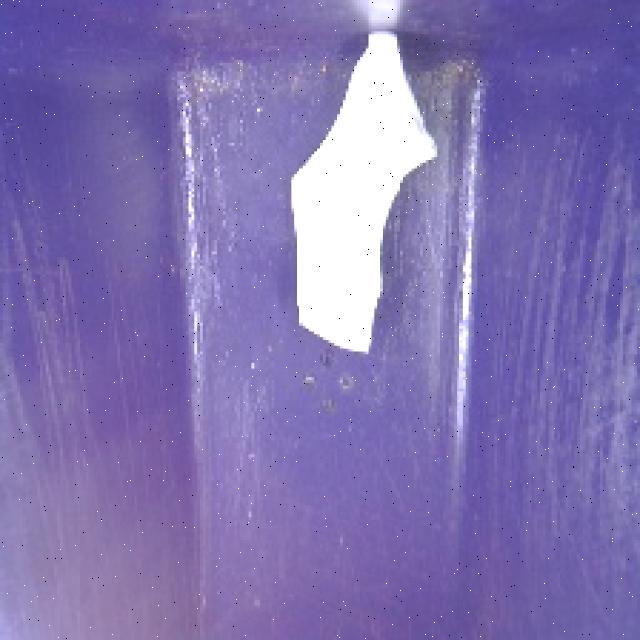china: (272, 19, 447, 360)
